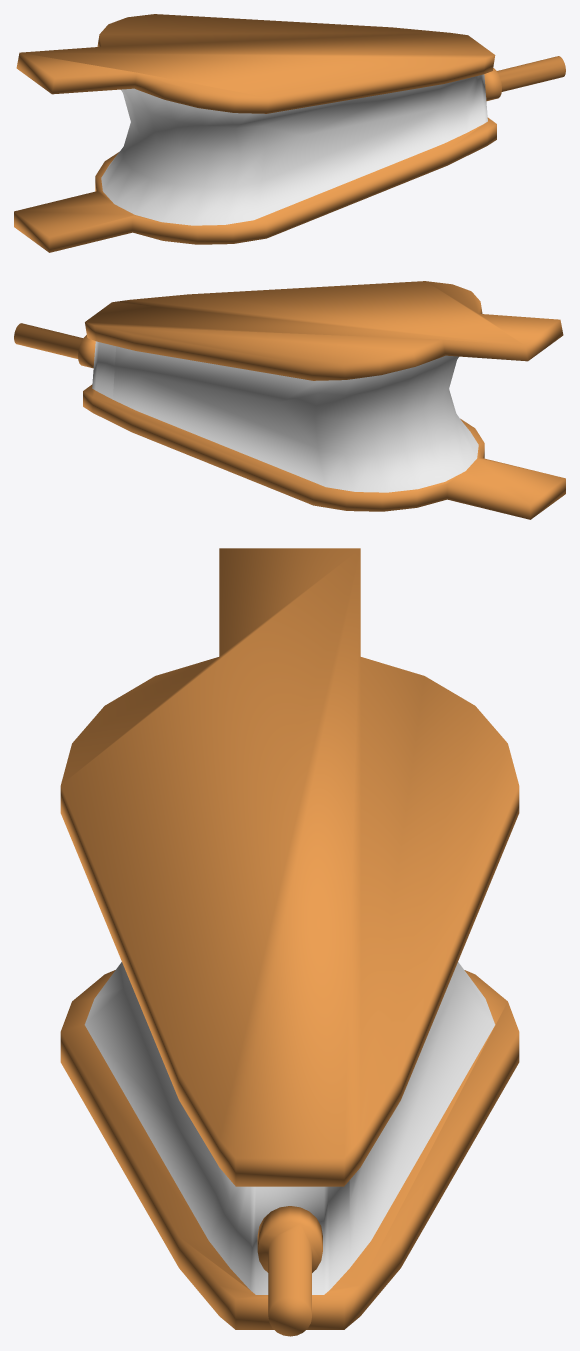
The model's file is Bellow.fbx.
The picture shows the model from 3 angles, top to bottom: view 1: azimuth 30°, elevation 25°; view 2: azimuth 150°, elevation 25°; view 3: azimuth 270°, elevation 25°; orthographic projection. The views are drawn at different scales.
Parts seen in each view (by area): view 1: Circle.030; view 2: Circle.030; view 3: Circle.030.
Boxes of the visible parts, x1,y1,x2,y2 form: Circle.030: (14,14,565,252); Circle.030: (14,281,565,519); Circle.030: (60,548,519,1336).
Bounding box in the file's own units: 289 × 90.43 × 109.
